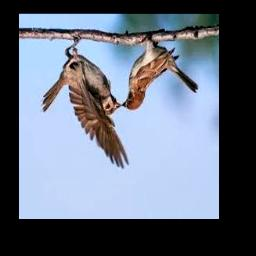Sparrow: (42, 39, 129, 168), (123, 35, 199, 111)
